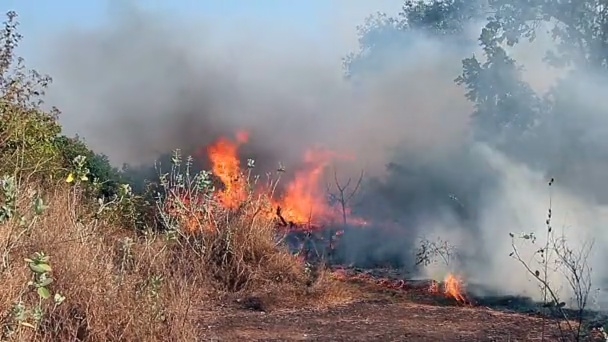fire: (210, 139, 246, 198), (270, 204, 306, 225), (442, 275, 462, 294), (65, 172, 73, 183)
